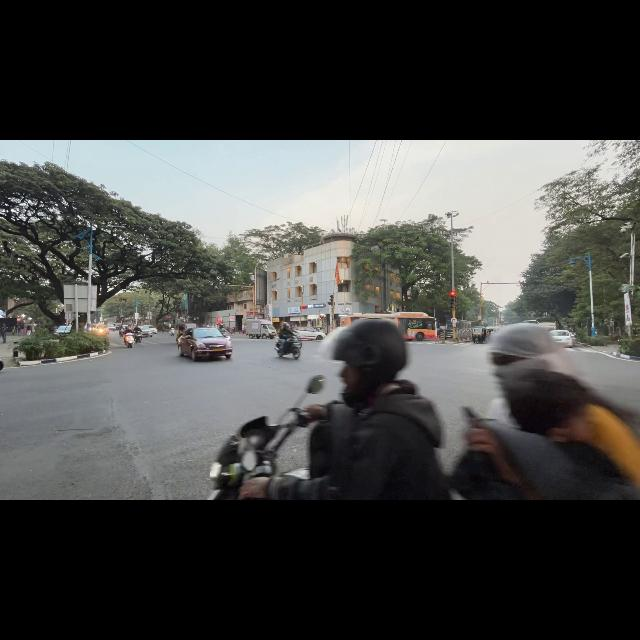bus: (340, 312, 436, 340), (523, 318, 557, 330), (536, 318, 557, 330)
car: (178, 328, 232, 360), (550, 330, 574, 347), (295, 327, 326, 339), (54, 326, 72, 338), (93, 325, 109, 335), (139, 326, 153, 337), (107, 324, 117, 332), (149, 326, 157, 334)
motorcycle: (208, 376, 324, 499), (276, 337, 301, 359), (125, 333, 134, 347), (134, 333, 141, 343), (168, 328, 176, 336), (0, 359, 4, 370), (119, 329, 124, 337)
truck: (246, 320, 276, 338)
